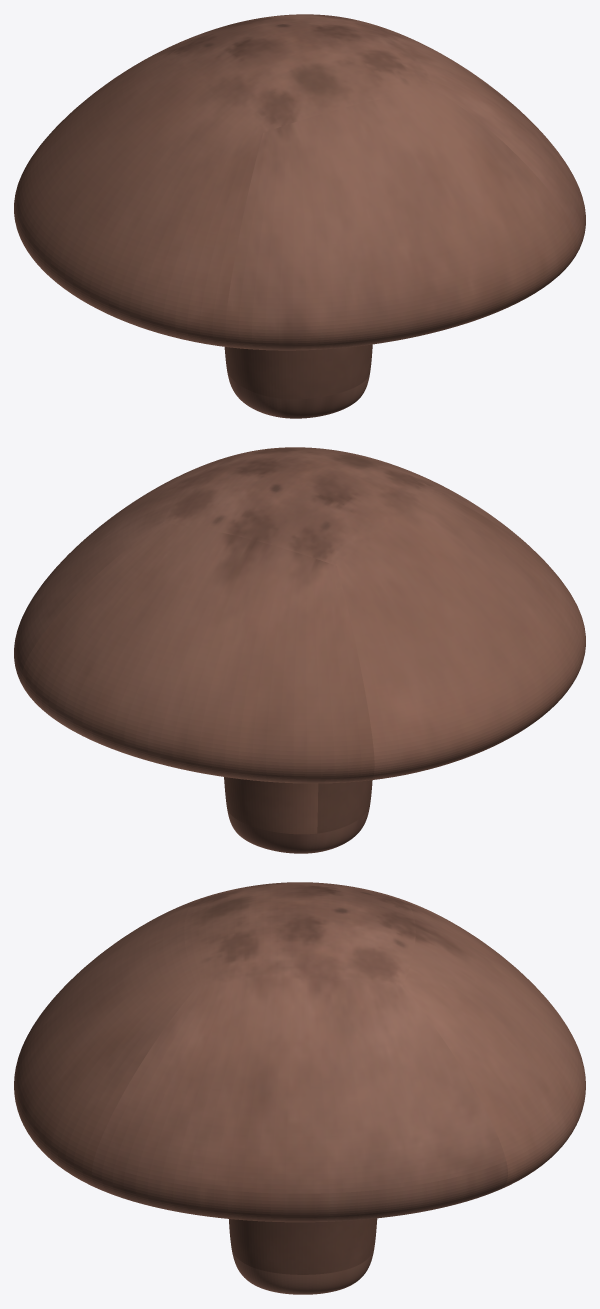
The model's file is Pilz3.fbx.
3 views of the same model, one above another, from view 1: azimuth 30°, elevation 25°; view 2: azimuth 150°, elevation 25°; view 3: azimuth 270°, elevation 25° (orthographic). The views are drawn at different scales.
Parts seen in each view (by area): view 1: Cube.002; view 2: Cube.002; view 3: Cube.002.
Part boxes in pixels (x1=…): Cube.002: x1=14, y1=14, x2=585, y2=418; Cube.002: x1=14, y1=447, x2=585, y2=853; Cube.002: x1=14, y1=882, x2=585, y2=1294.
Size of the model in its own units: 47.55 by 34.03 by 47.55.
